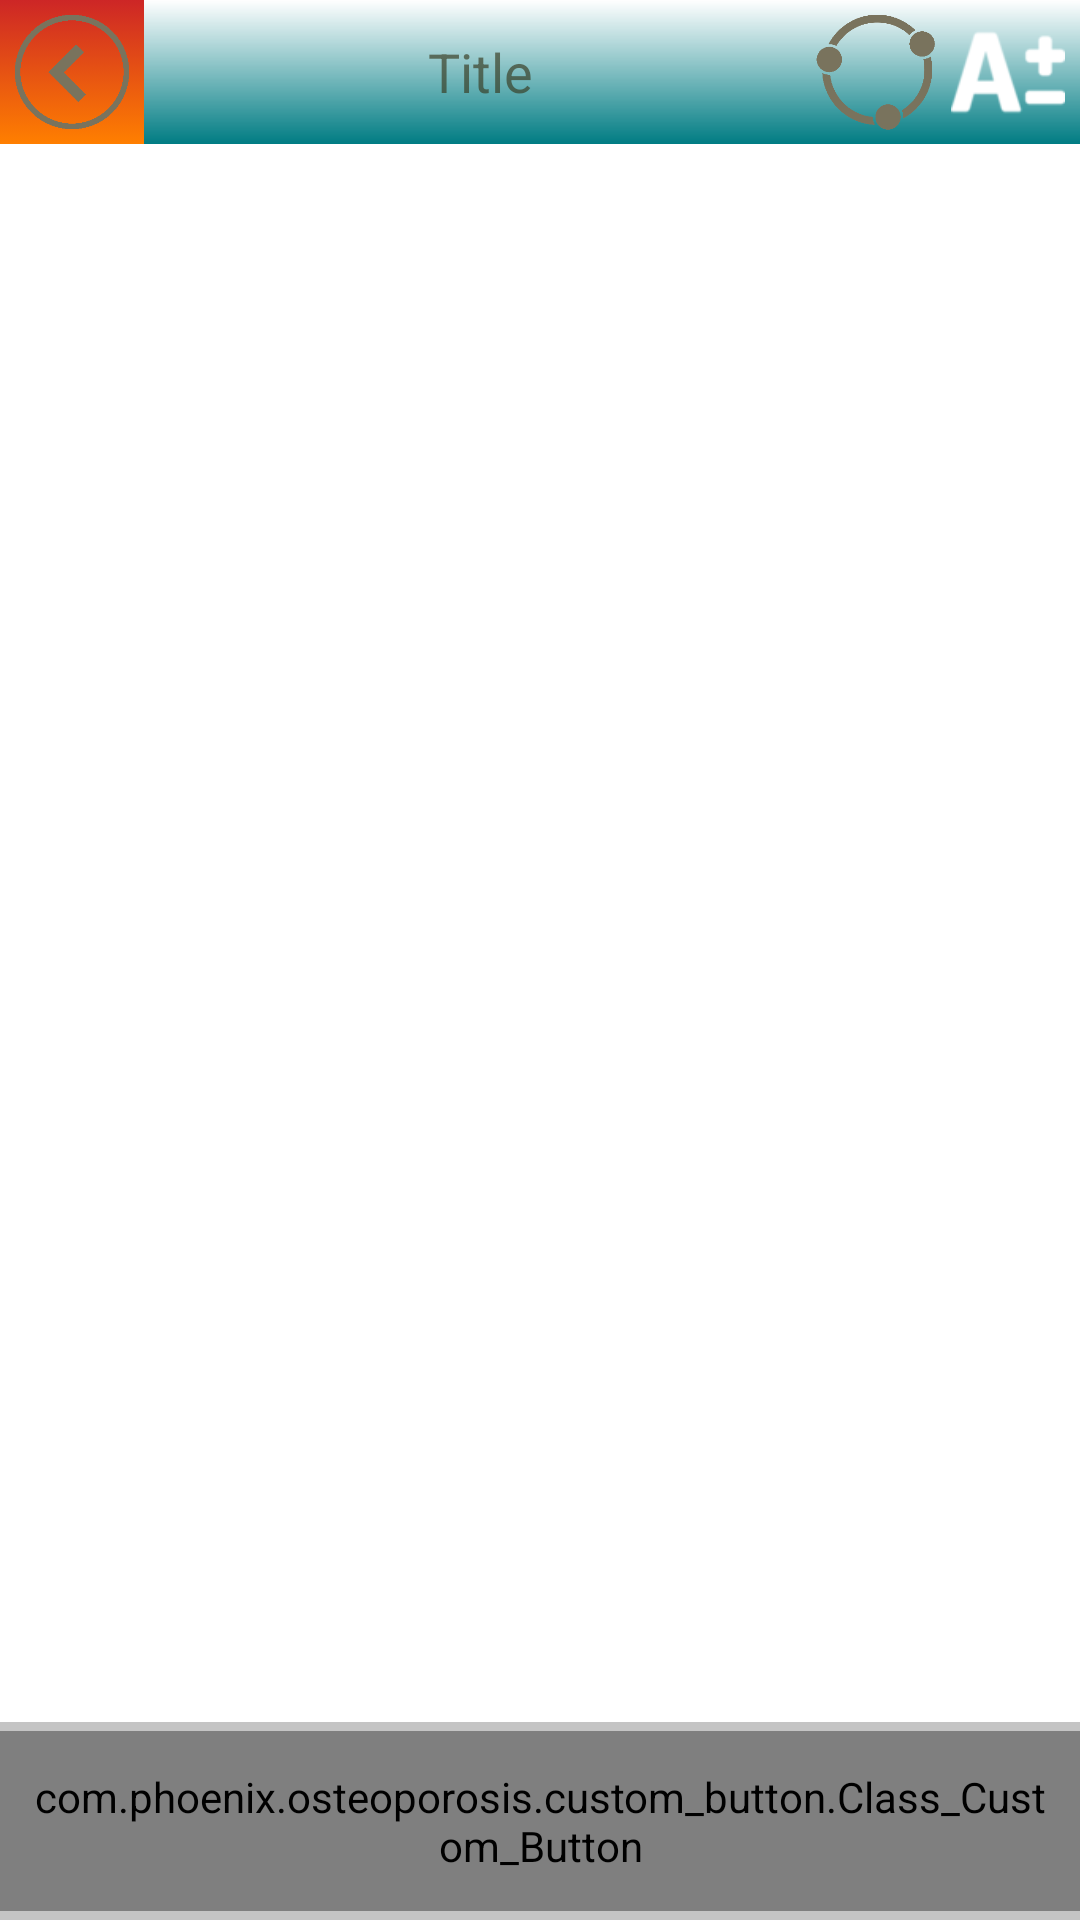

Point at icon controls on the screen. Image size 1080w x 1920h, points as (x=x, y=y).
arrow left: (x=72, y=72)
font: (x=1008, y=72)
share: (x=876, y=72)
